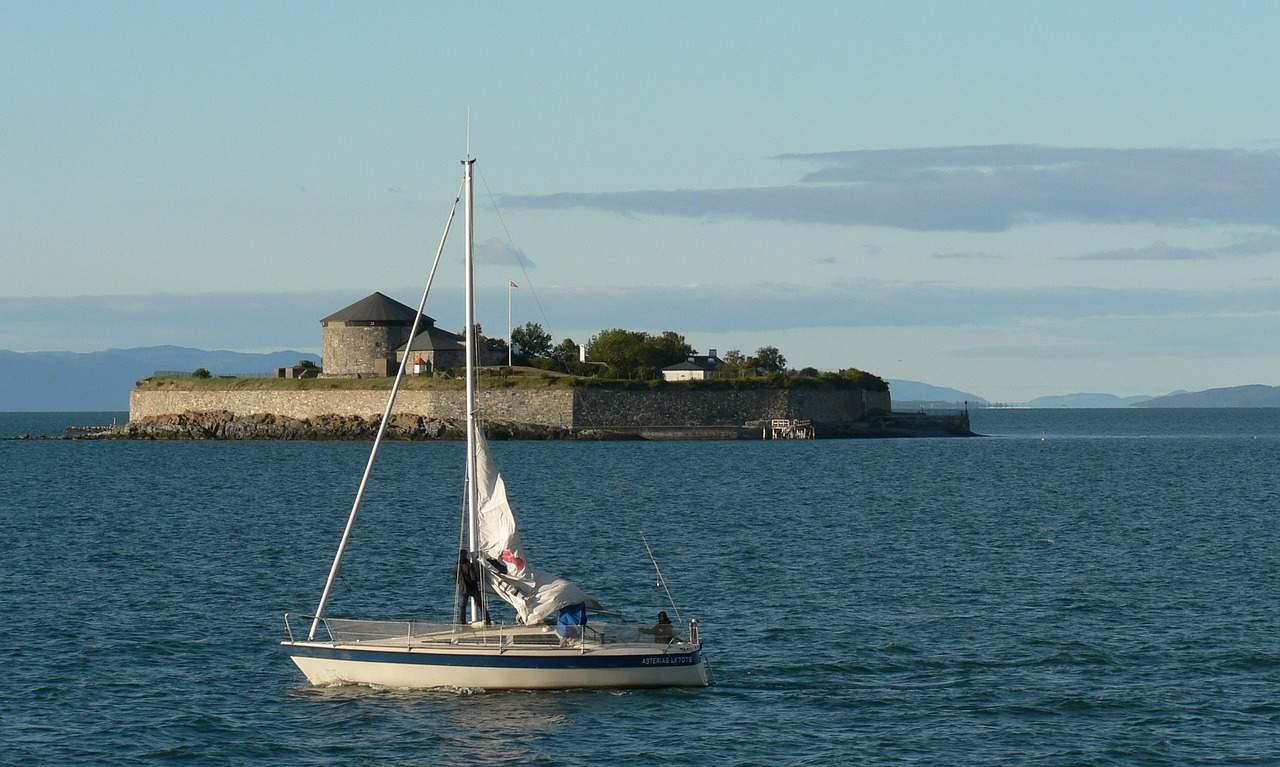Ship: (283, 154, 710, 688)
